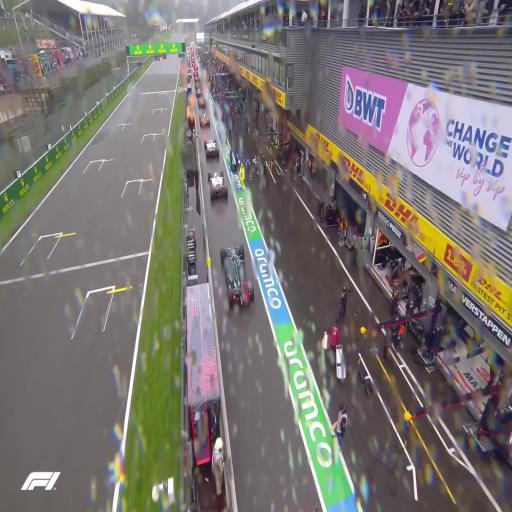f1_car: (220, 245, 254, 307), (208, 172, 227, 200), (204, 139, 219, 157), (200, 114, 210, 126), (198, 97, 205, 108), (196, 89, 202, 97)
